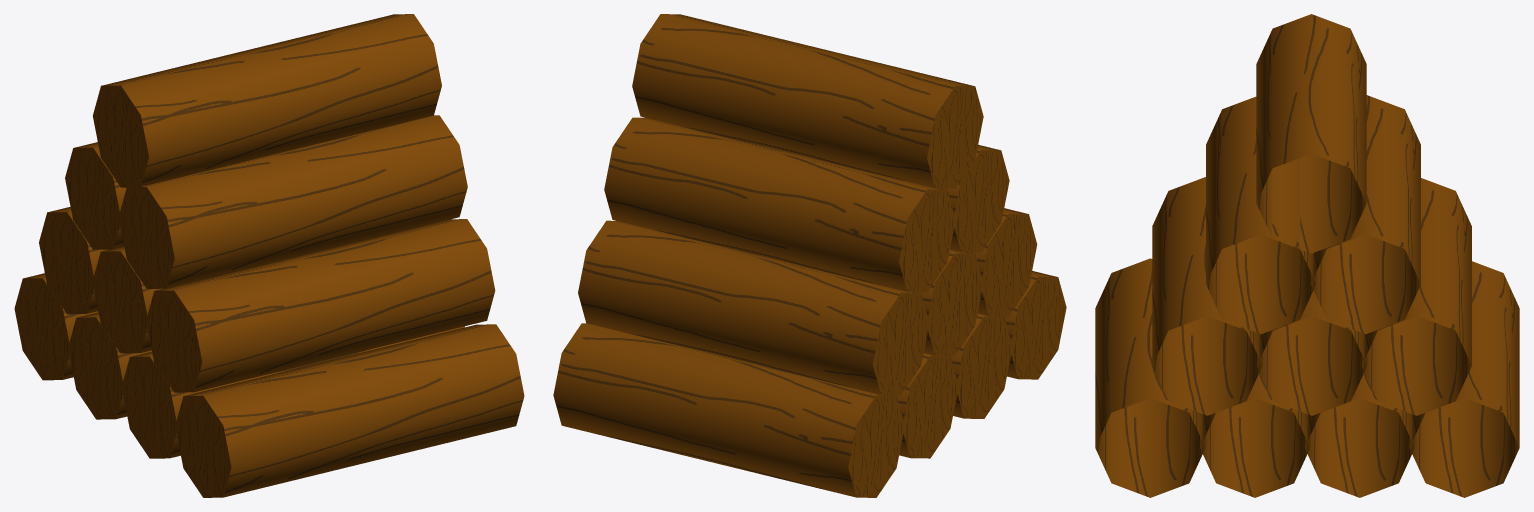
Rendered from Leña.FBX.
3 views of the same model, side by side, from view 1: azimuth 30°, elevation 25°; view 2: azimuth 150°, elevation 25°; view 3: azimuth 270°, elevation 25° (orthographic). The views are drawn at different scales.
Visible parts, largest first — view 1: ToconLeña003, ToconLeña009, ToconLeña004, ToconLeña007, ToconLeña002, ToconLeña001, ToconLeña, ToconLeña008, ToconLeña005, ToconLeña006; view 2: ToconLeña009, ToconLeña008, ToconLeña005, ToconLeña, ToconLeña003, ToconLeña004, ToconLeña001, ToconLeña002, ToconLeña006, ToconLeña007; view 3: ToconLeña009, ToconLeña007, ToconLeña003, ToconLeña008, ToconLeña004, ToconLeña005, ToconLeña, ToconLeña002, ToconLeña001, ToconLeña006.
Boxes of the visible parts, bbox=[...] form: ToconLeña003: bbox=[175, 324, 524, 497]; ToconLeña009: bbox=[93, 14, 441, 187]; ToconLeña004: bbox=[147, 219, 495, 392]; ToconLeña007: bbox=[119, 115, 467, 288]; ToconLeña002: bbox=[122, 326, 464, 458]; ToconLeña001: bbox=[68, 312, 151, 419]; ToconLeña: bbox=[14, 273, 98, 380]; ToconLeña008: bbox=[65, 142, 126, 249]; ToconLeña005: bbox=[39, 207, 107, 314]; ToconLeña006: bbox=[94, 247, 162, 353]; ToconLeña009: bbox=[632, 14, 983, 188]; ToconLeña008: bbox=[604, 117, 954, 292]; ToconLeña005: bbox=[578, 220, 927, 395]; ToconLeña: bbox=[553, 323, 903, 497]; ToconLeña003: bbox=[1004, 271, 1066, 379]; ToconLeña004: bbox=[972, 208, 1037, 316]; ToconLeña001: bbox=[896, 353, 957, 458]; ToconLeña002: bbox=[950, 313, 1012, 418]; ToconLeña006: bbox=[918, 249, 983, 355]; ToconLeña007: bbox=[943, 144, 1009, 252]; ToconLeña009: bbox=[1256, 14, 1366, 253]; ToconLeña007: bbox=[1206, 96, 1316, 334]; ToconLeña003: bbox=[1095, 258, 1205, 497]; ToconLeña008: bbox=[1310, 95, 1420, 334]; ToconLeña004: bbox=[1152, 177, 1262, 415]; ToconLeña005: bbox=[1361, 178, 1471, 415]; ToconLeña: bbox=[1409, 261, 1519, 497]; ToconLeña002: bbox=[1200, 372, 1310, 497]; ToconLeña001: bbox=[1304, 372, 1414, 497]; ToconLeña006: bbox=[1257, 290, 1367, 415].
Size of the model in its own units: 60 by 68.92 by 77.
